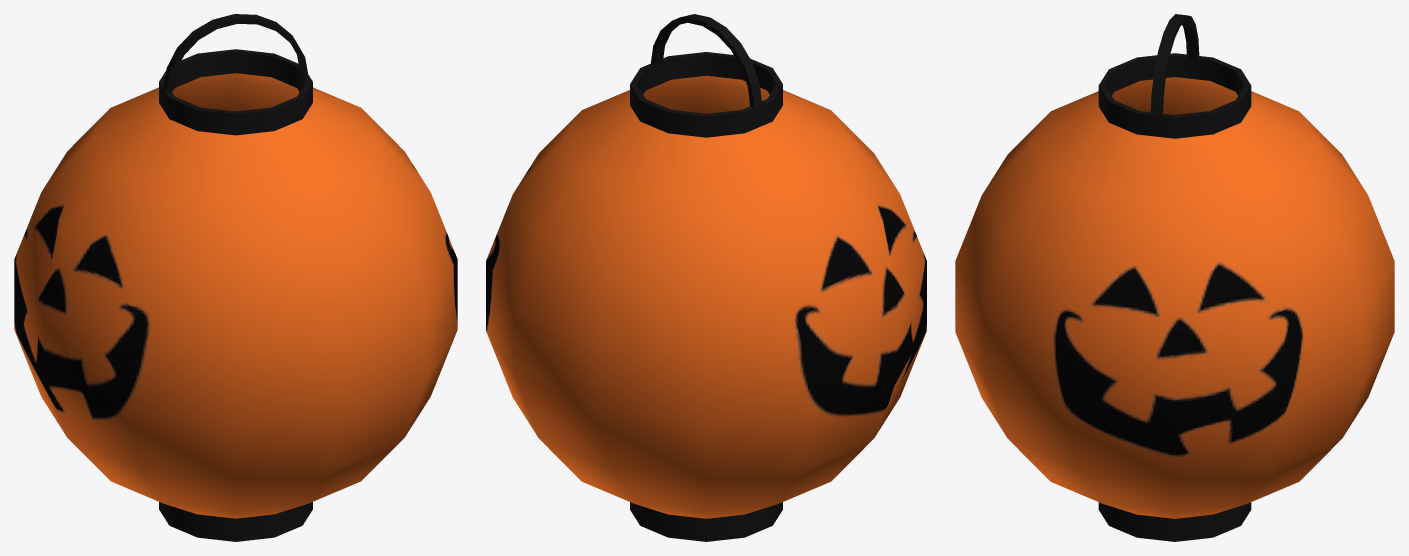
Rendered from HW_pumpkinLantern.fbx.
3 views of the same model, side by side, from view 1: azimuth 30°, elevation 25°; view 2: azimuth 150°, elevation 25°; view 3: azimuth 270°, elevation 25° (orthographic).
Visible parts, largest first — view 1: HW_pumpkinLantern; view 2: HW_pumpkinLantern; view 3: HW_pumpkinLantern.
Part boxes in pixels (box(x1,y1,x2,y2)): HW_pumpkinLantern: box(14, 14, 457, 541); HW_pumpkinLantern: box(486, 14, 926, 541); HW_pumpkinLantern: box(955, 14, 1394, 541).
Bounding box in the file's own units: 0.2166 × 0.266 × 0.2166.
1 material, 1 textured.
